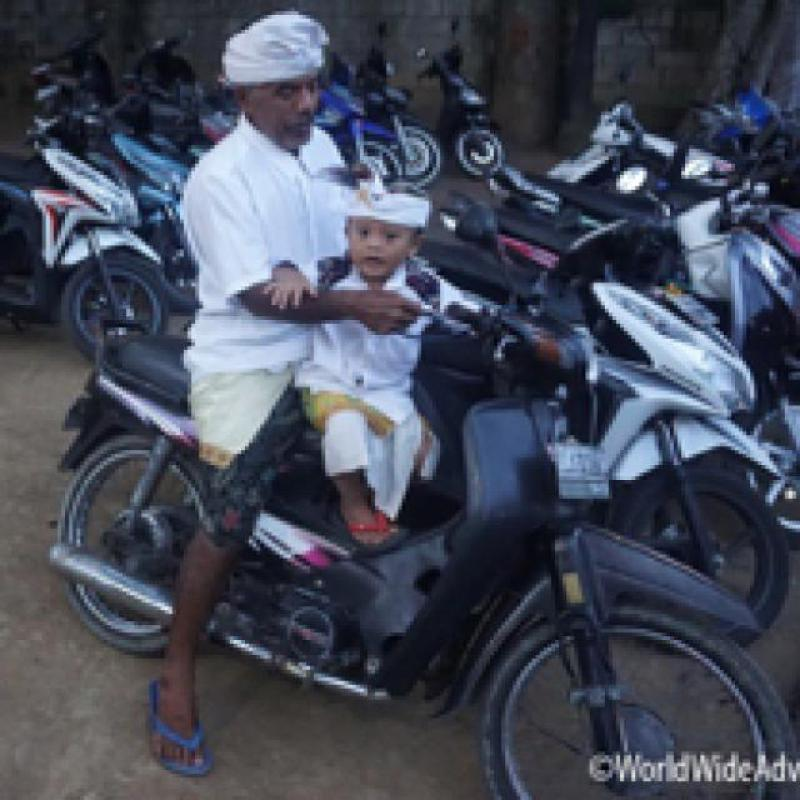nohelmet: (212, 15, 342, 144), (346, 170, 425, 290)
